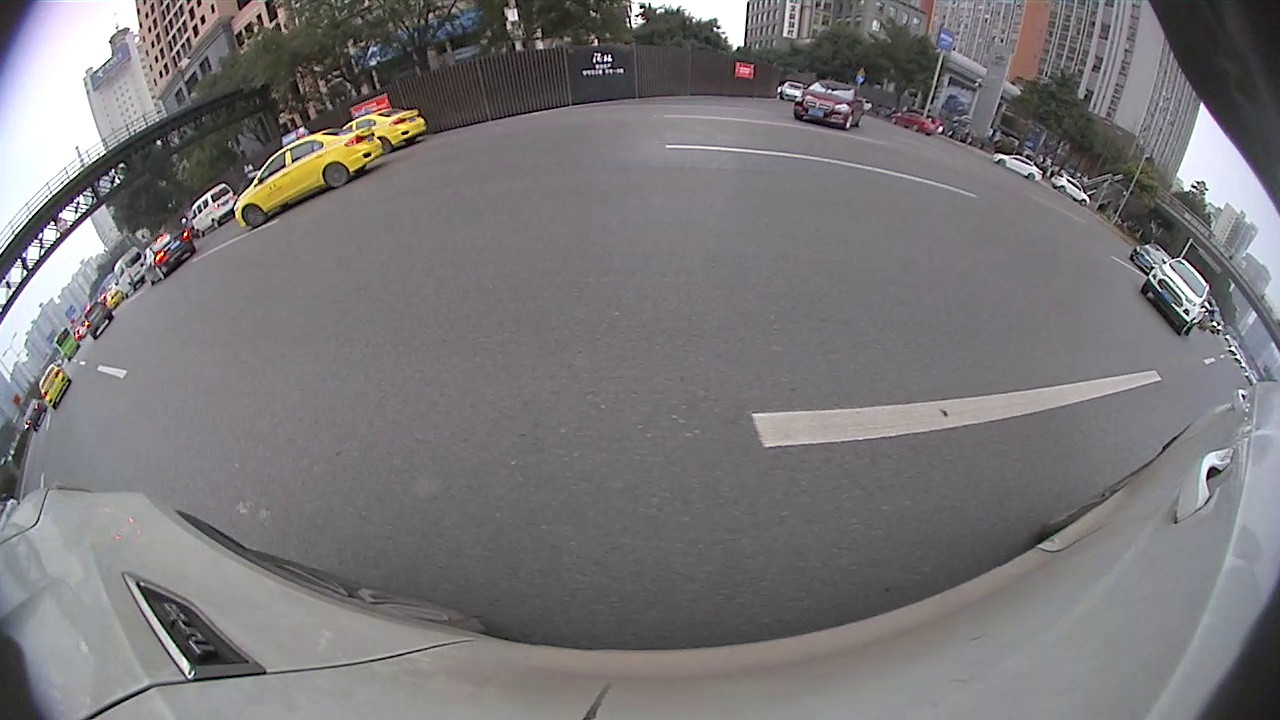car: (235, 127, 384, 230), (1141, 258, 1212, 338), (329, 109, 429, 156), (794, 79, 866, 132), (143, 229, 196, 288), (189, 180, 236, 238), (991, 152, 1043, 184), (39, 362, 73, 410), (1129, 242, 1174, 273), (1051, 174, 1091, 208)
front: (242, 205, 265, 226)
rear: (324, 163, 347, 190)
